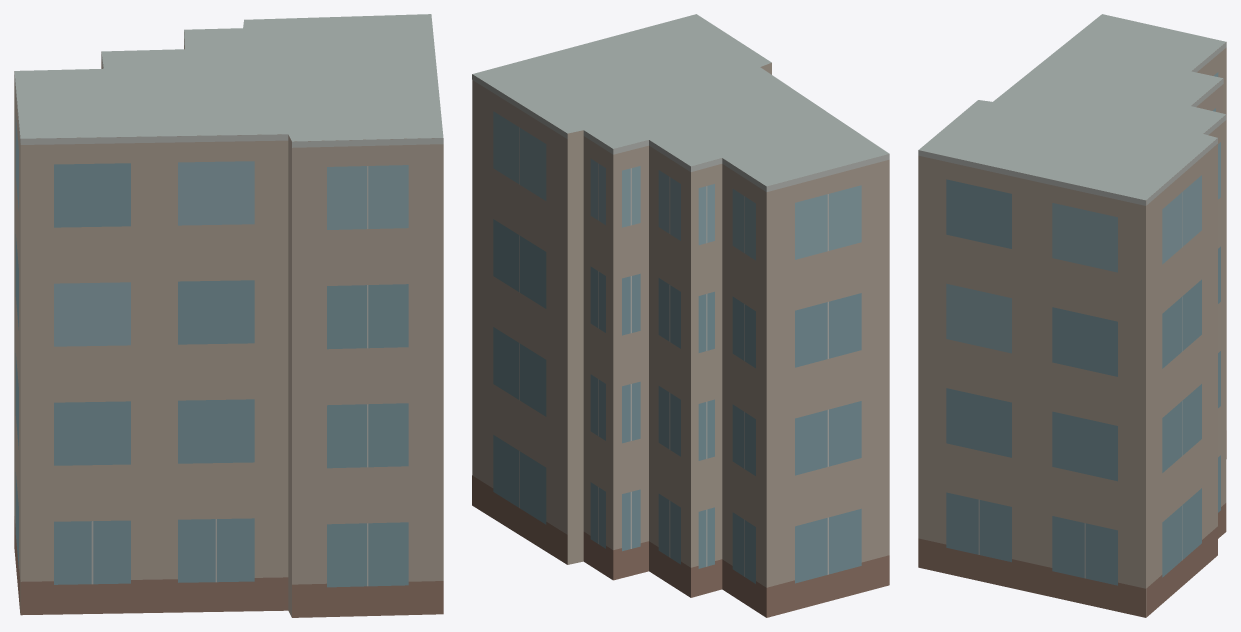
File: survey-upis-32684283.glb
The picture shows the model from 3 angles, left to right: view 1: azimuth 30°, elevation 25°; view 2: azimuth 150°, elevation 25°; view 3: azimuth 270°, elevation 25°; orthographic projection. The views are drawn at different scales.
Parts seen in each view (by area): view 1: survey-upis-32684283.tmp; view 2: survey-upis-32684283.tmp; view 3: survey-upis-32684283.tmp.
Part boxes in pixels (box(x1,y1,x2,y2)): survey-upis-32684283.tmp: box(14, 14, 443, 617); survey-upis-32684283.tmp: box(472, 14, 889, 617); survey-upis-32684283.tmp: box(918, 14, 1226, 617).
Bounding box in the file's own units: 17.59 × 18.36 × 12.29.
